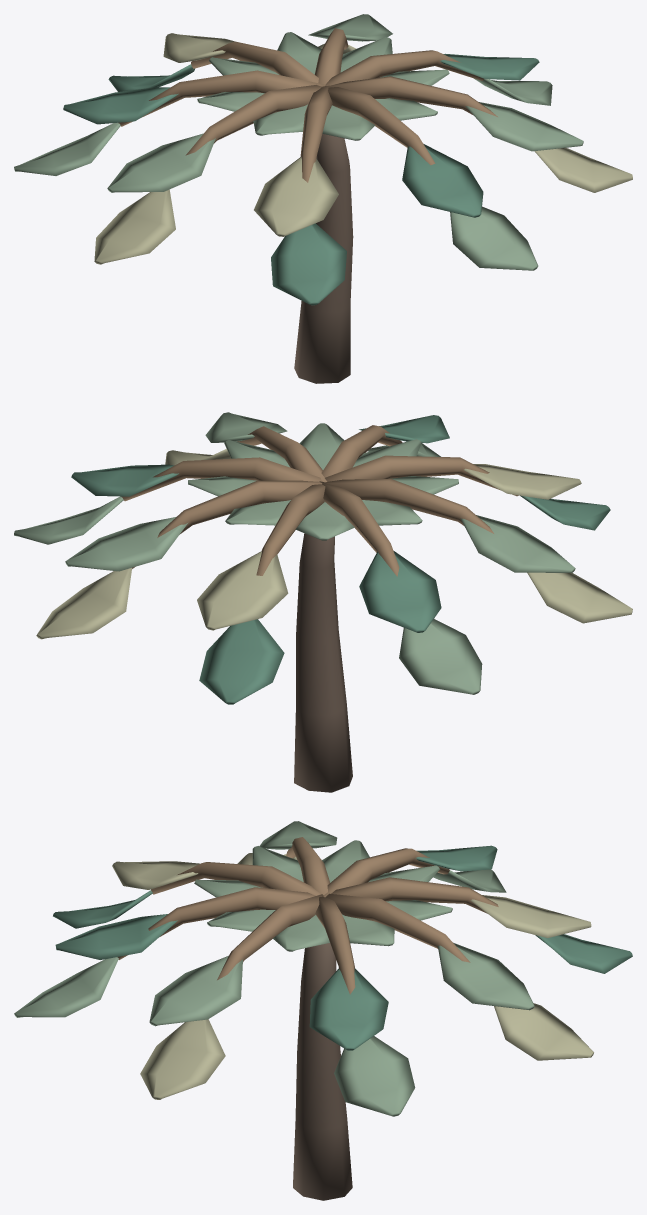
The model's file is tree_umbrella.glb.
The picture shows the model from 3 angles, top to bottom: view 1: azimuth 30°, elevation 25°; view 2: azimuth 150°, elevation 25°; view 3: azimuth 270°, elevation 25°; orthographic projection. The views are drawn at different scales.
Parts seen in each view (by area): view 1: tree_umbrella; view 2: tree_umbrella; view 3: tree_umbrella.
Part boxes in pixels (left/top/right/bottom): tree_umbrella: left=14, top=14, right=632, bottom=383; tree_umbrella: left=14, top=412, right=632, bottom=792; tree_umbrella: left=14, top=821, right=632, bottom=1200.
Size of the model in its own units: 9.68 by 5.25 by 9.68.
